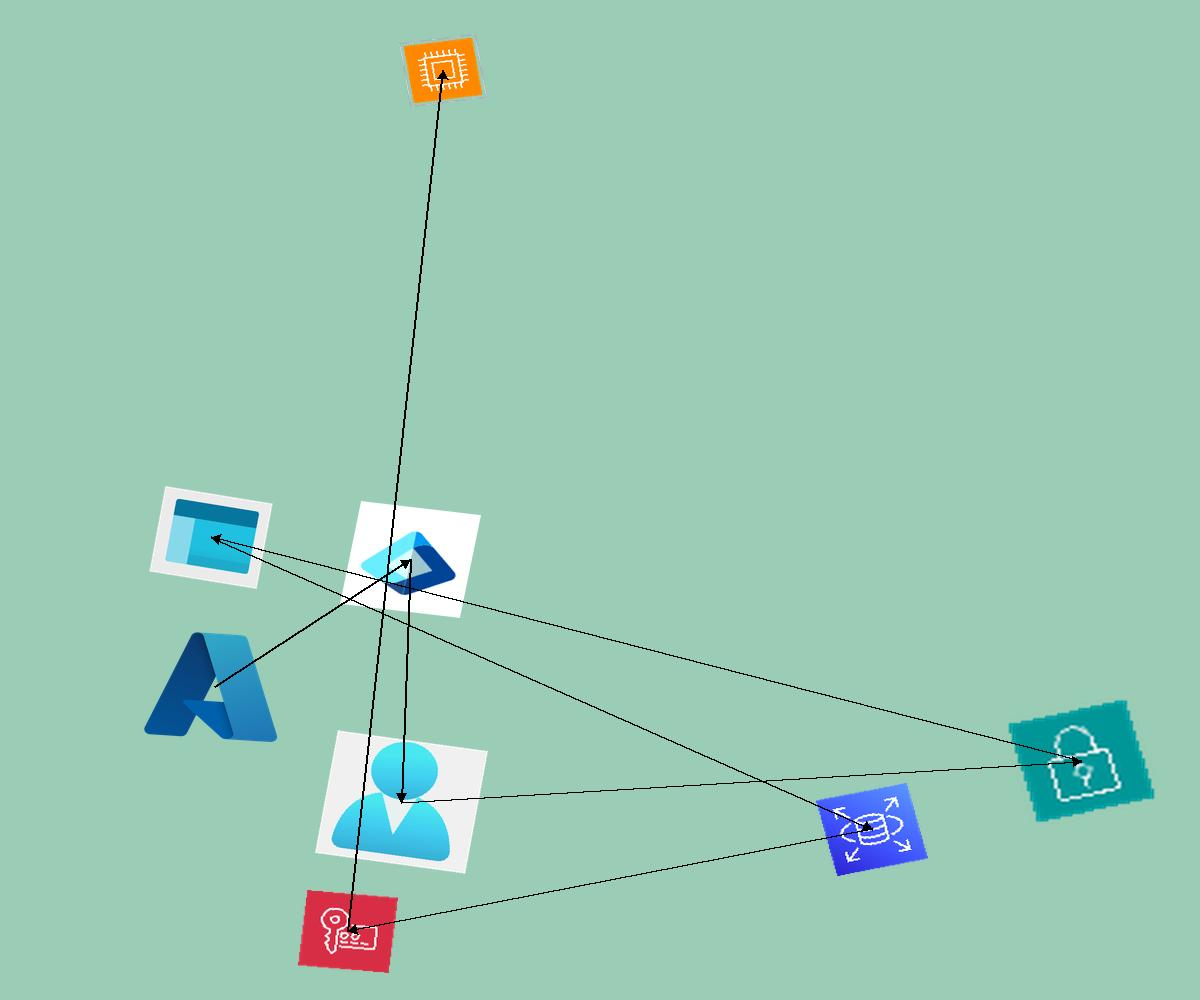AWS-Category_Compute: (398, 33, 488, 108)
AWS-Key-Management-Service: (298, 890, 398, 973)
AWS-Private-subnet: (1006, 698, 1157, 824)
AWS-RDS: (815, 782, 929, 877)
Azure_management-portal: (149, 486, 273, 589)
Azure_microsoft_entra: (340, 501, 481, 618)
Azure_services: (137, 621, 293, 751)
Azure_users: (315, 730, 488, 874)
